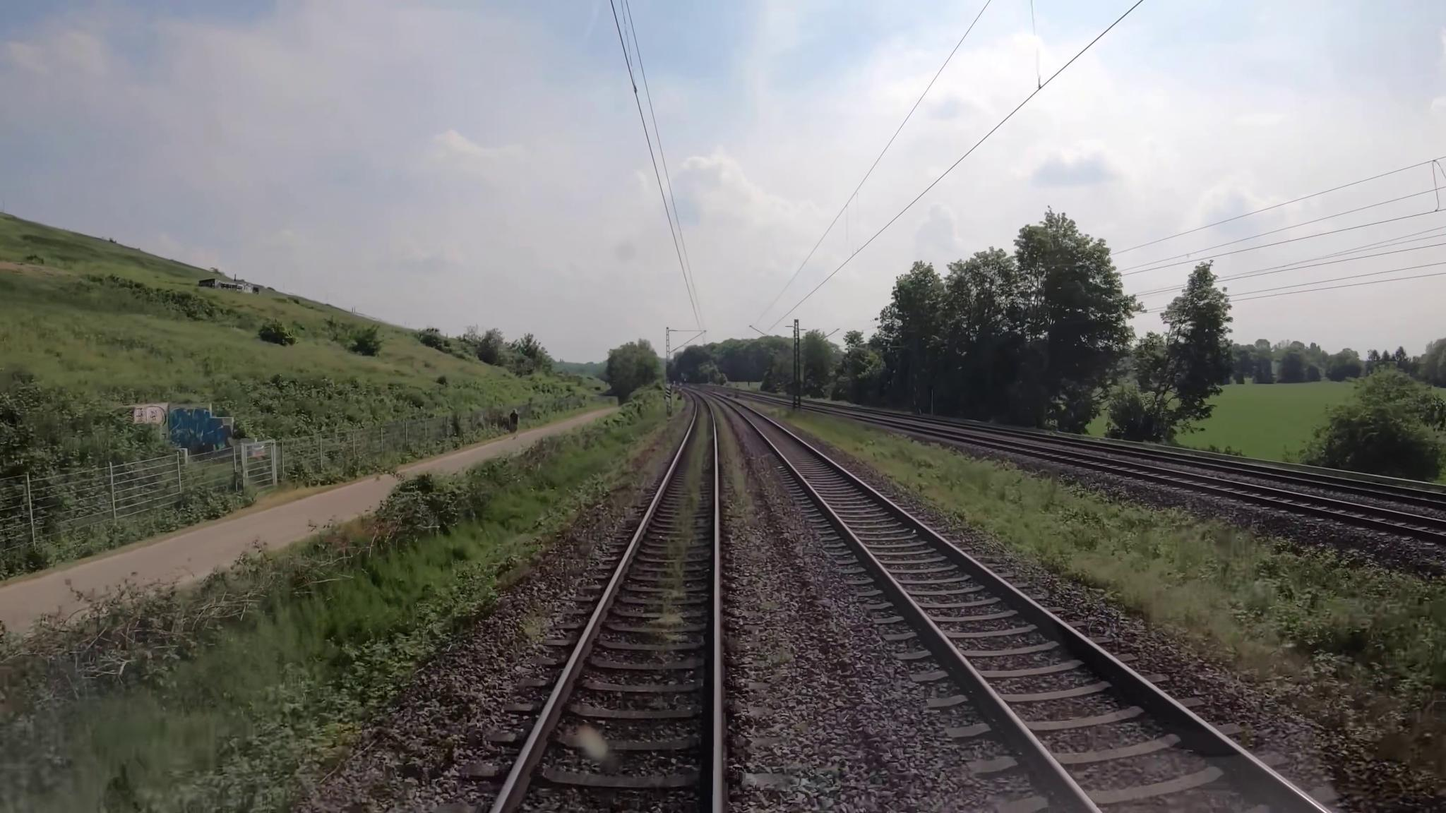Plant: (660, 407, 708, 641), (708, 400, 748, 511)
